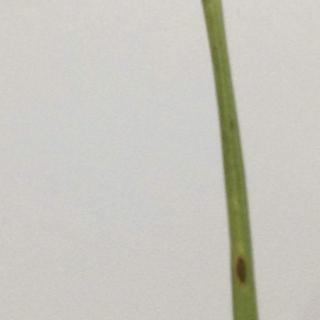Blast: (227, 242, 257, 298)
